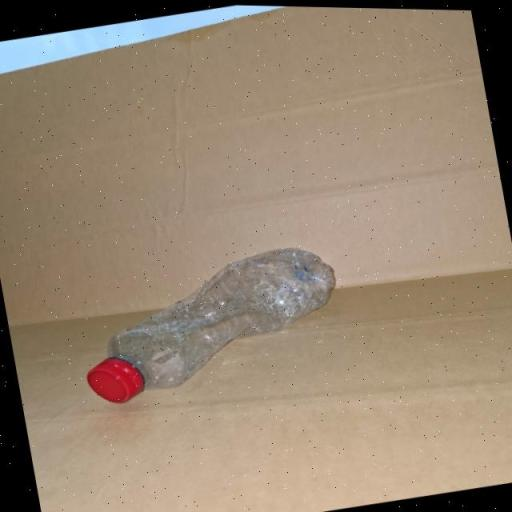plastic: (59, 234, 353, 415)
